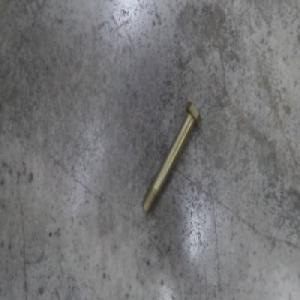Bolt: (141, 100, 201, 217)
